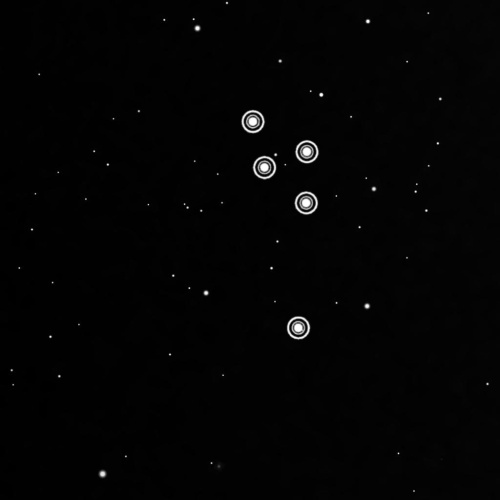delphinus: (230, 101, 326, 350)
